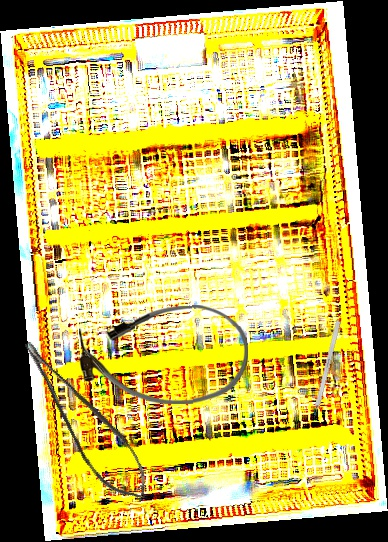Cannula: (78, 304, 249, 406)
Hook Surgical: (309, 320, 342, 427)
Micro Scissor: (18, 322, 157, 513)
